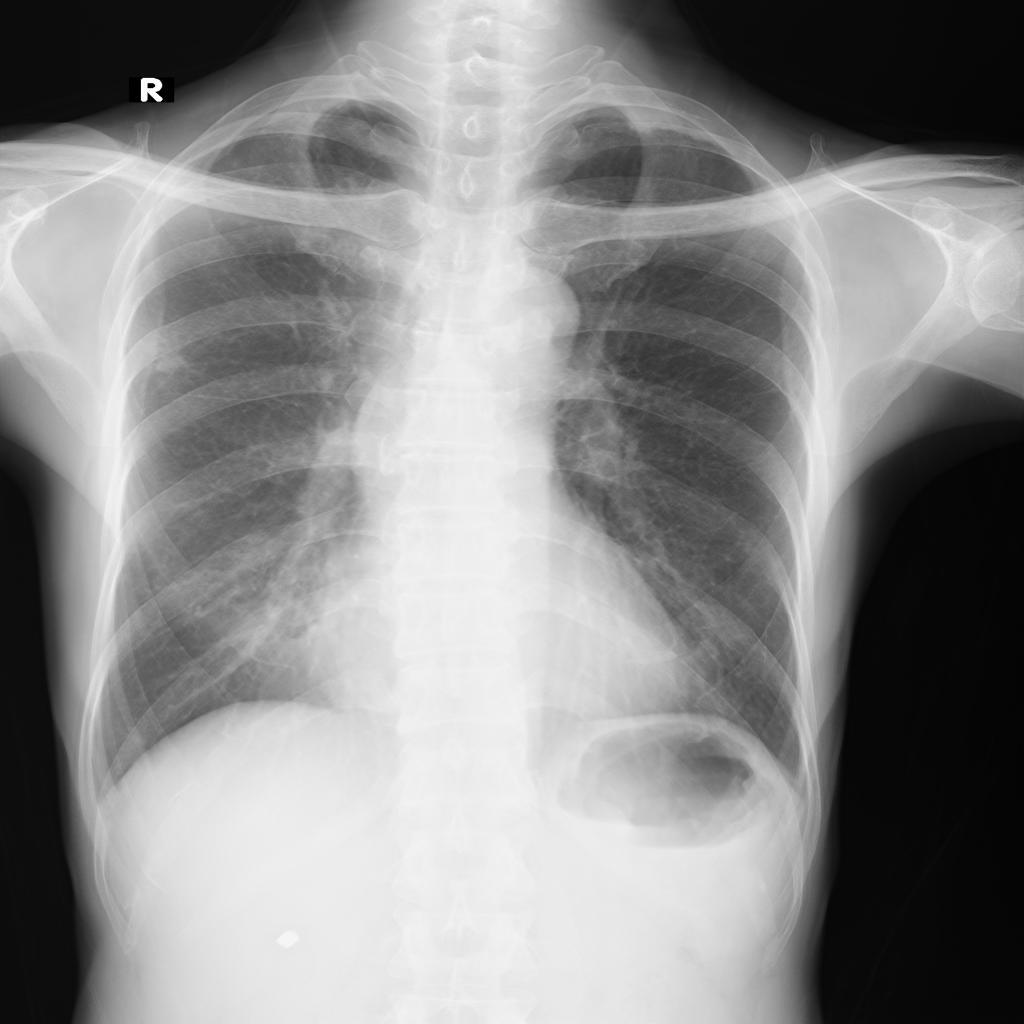Nodule: (157, 356, 191, 376)
